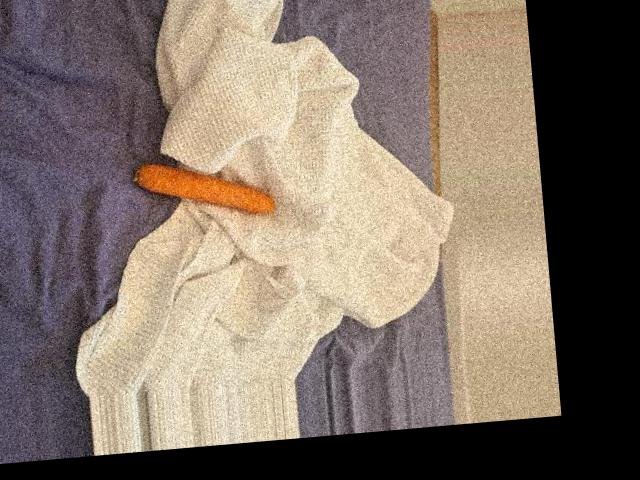carrot: (131, 152, 276, 224)
